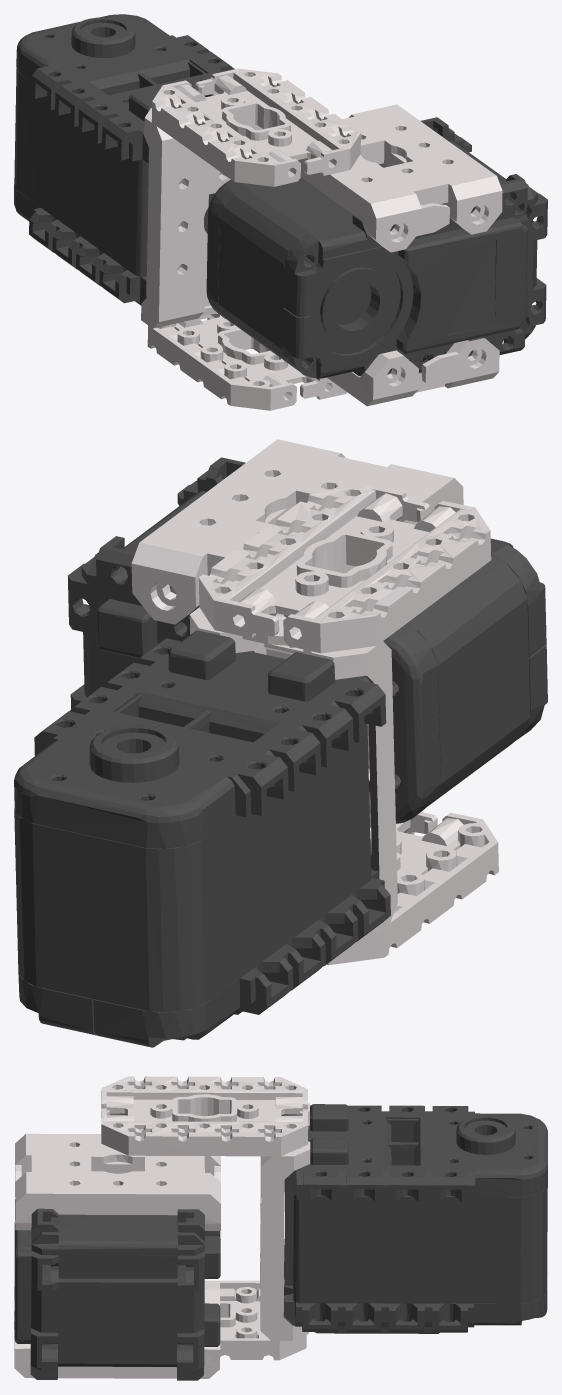
The model's file is arm3_link_1.obj.
The picture shows the model from 3 angles, top to bottom: view 1: azimuth 30°, elevation 25°; view 2: azimuth 150°, elevation 25°; view 3: azimuth 270°, elevation 25°; orthographic projection. The views are drawn at different scales.
Visible parts, largest first — view 1: arm3_link_1; view 2: arm3_link_1; view 3: arm3_link_1.
Part boxes in pixels (left/top/right/bottom): arm3_link_1: left=14, top=14, right=547, bottom=410; arm3_link_1: left=14, top=439, right=547, bottom=1047; arm3_link_1: left=14, top=1076, right=547, bottom=1380.
Size of the model in its own units: 56.81 by 46.72 by 98.65.
